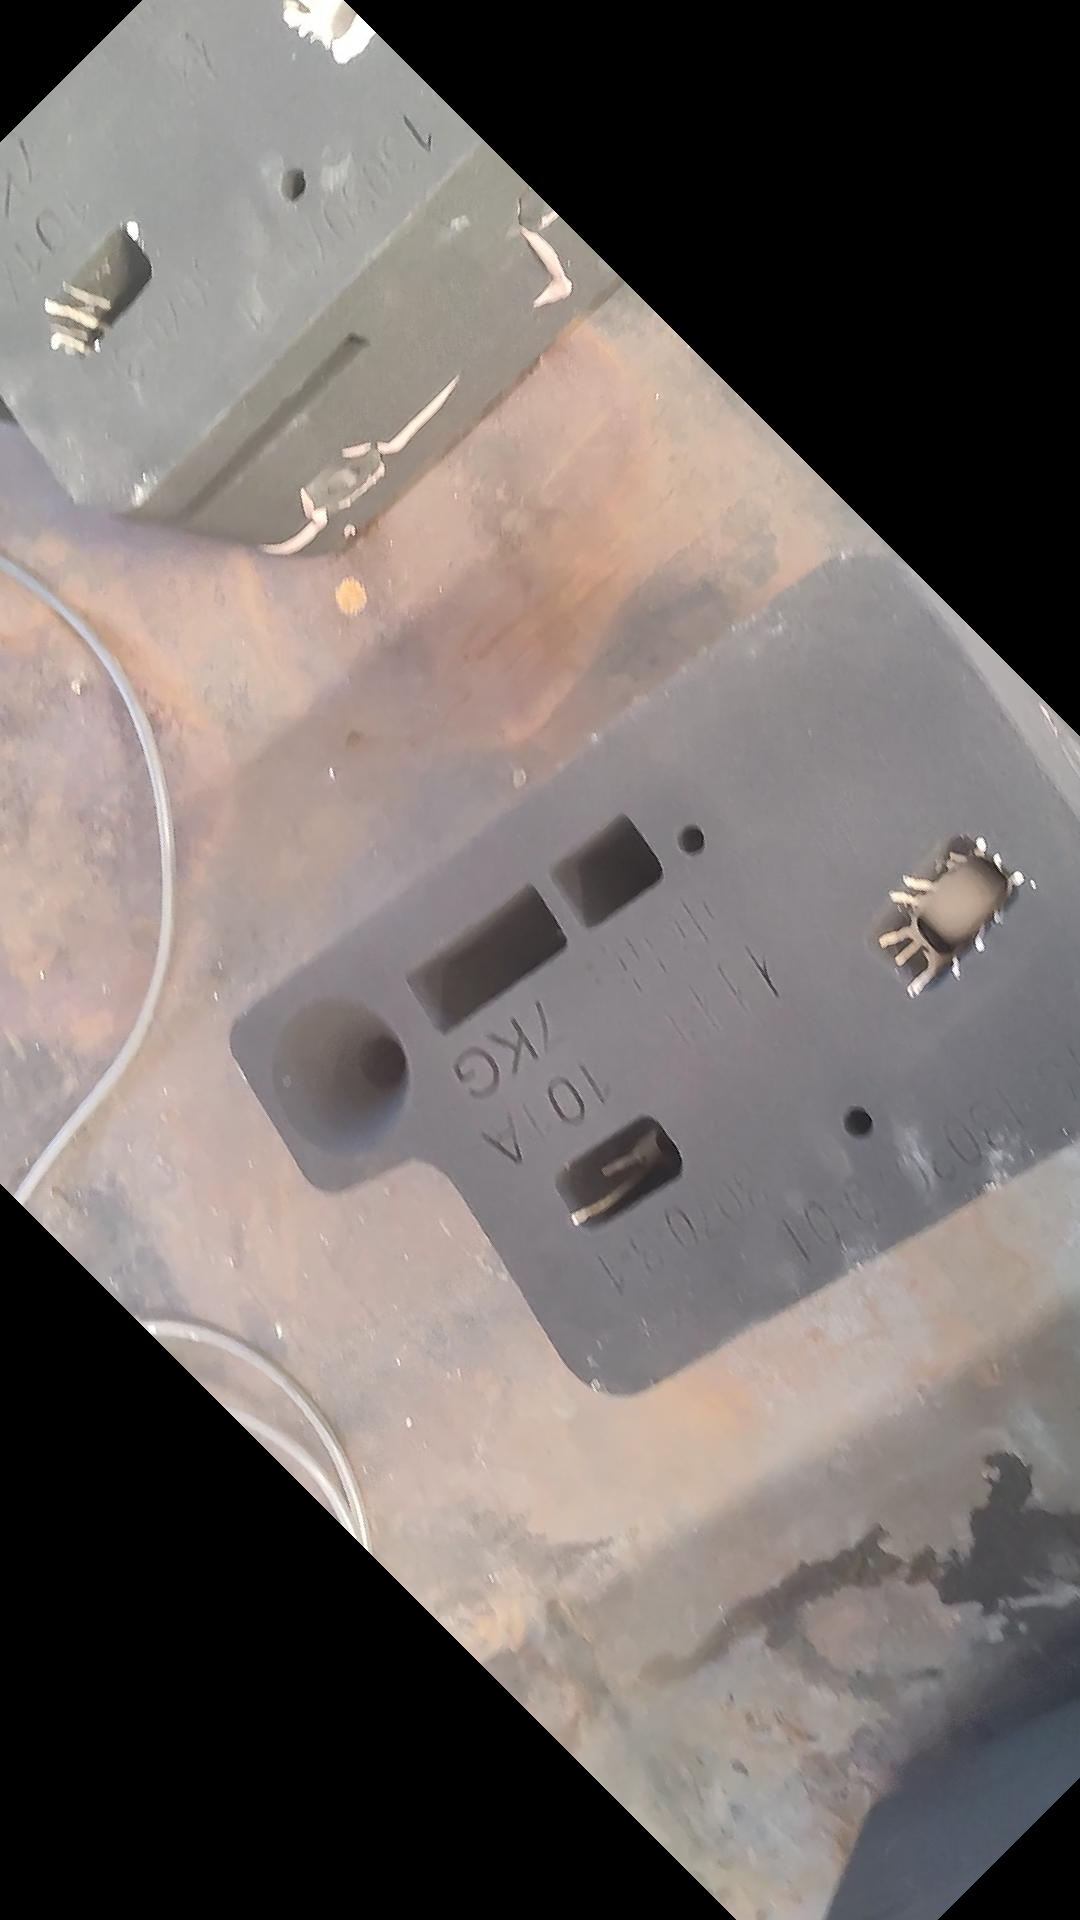pouring hole: (266, 994, 411, 1153)
